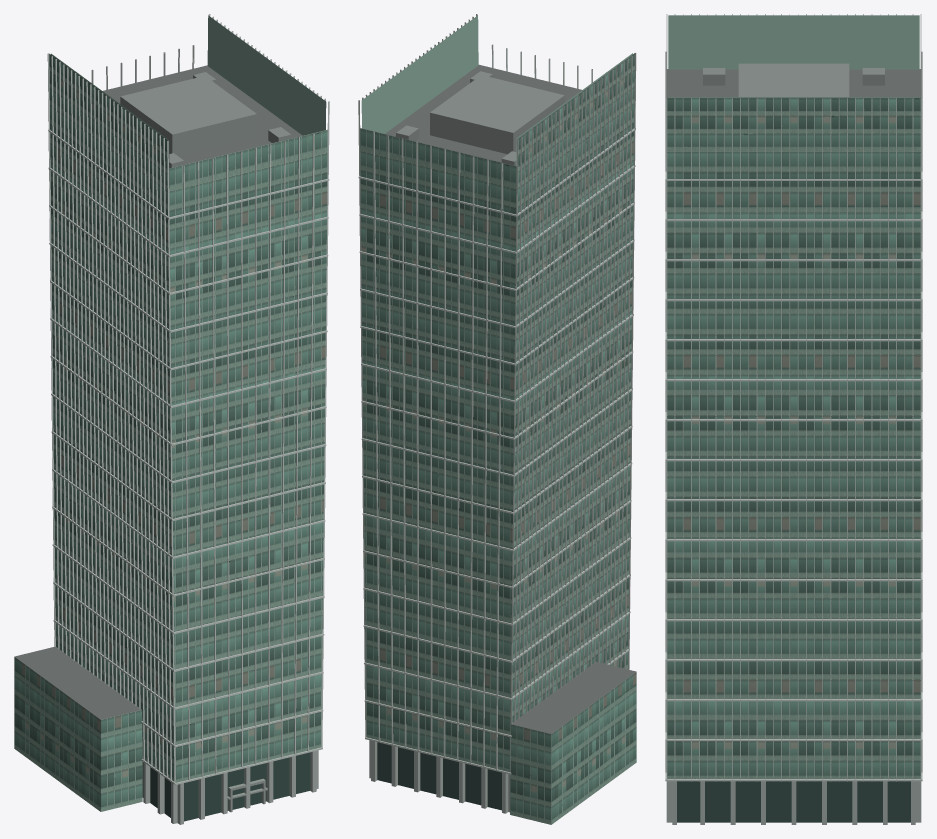
File: mission_555.glb
3 views of the same model, side by side, from view 1: azimuth 30°, elevation 25°; view 2: azimuth 150°, elevation 25°; view 3: azimuth 270°, elevation 25° (orthographic). The views are drawn at different scales.
Visible parts, largest first — view 1: mission_555; view 2: mission_555; view 3: mission_555.
Part boxes in pixels (<box>): mission_555: <box>14,14,329,824</box>; mission_555: <box>358,14,636,824</box>; mission_555: <box>665,14,922,824</box>.
Bounding box in the file's own units: 44.42 × 149 × 47.5.
2 materials, 2 textured.
